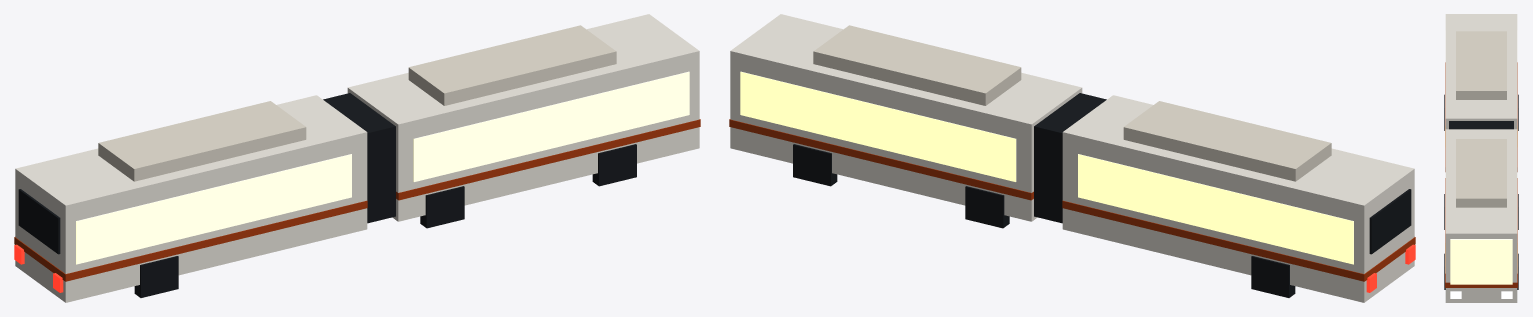
Rendered from metrobus.glb.
The picture shows the model from 3 angles, left to right: view 1: azimuth 30°, elevation 25°; view 2: azimuth 150°, elevation 25°; view 3: azimuth 270°, elevation 25°; orthographic projection. The views are drawn at different scales.
Parts seen in each view (by area): view 1: metrobus; view 2: metrobus; view 3: metrobus.
Part boxes in pixels (x1,y1,x2,y2): metrobus: (14,14,700,302); metrobus: (729,14,1415,302); metrobus: (1444,14,1518,302).
Size of the model in its own units: 18.6 by 3.4 by 2.64.
